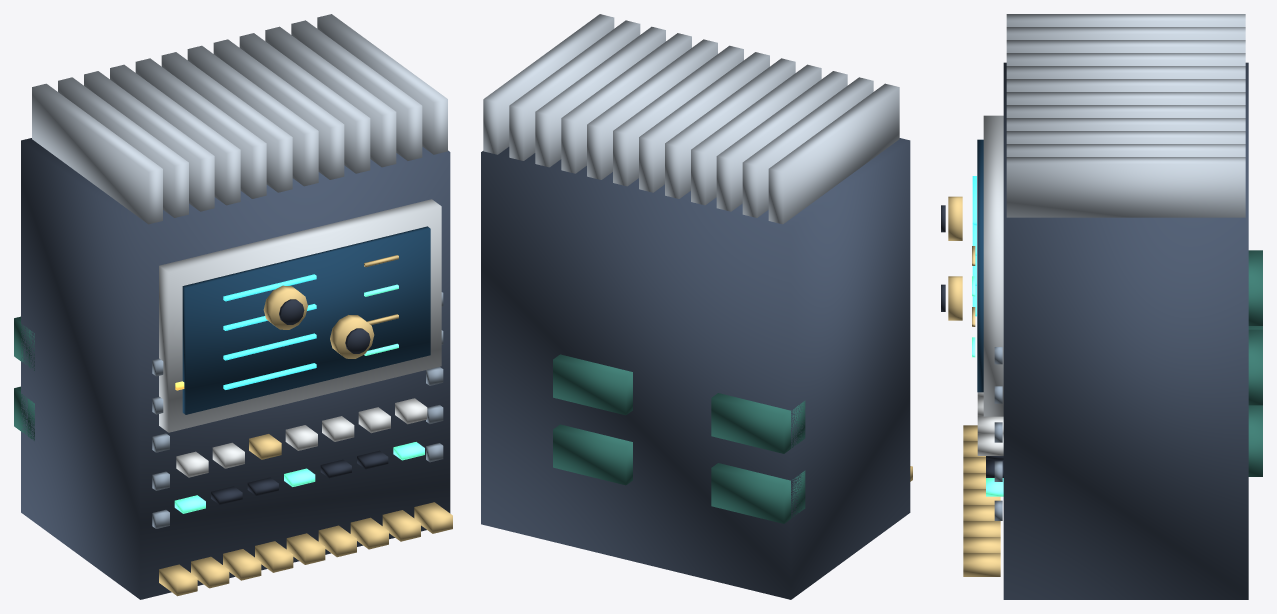
The model's file is 87_L91_ObservatoryThermalRadiator.glb.
3 renders of one model, left to right at view 1: azimuth 30°, elevation 25°; view 2: azimuth 150°, elevation 25°; view 3: azimuth 270°, elevation 25°, orthographic. The views are drawn at different scales.
Visible parts, largest first — view 1: L91_ObservatoryThermalRadiato_Part_0000, L91_ObservatoryThermalRadiato_Part_0011, L91_ObservatoryThermalRadiato_Part_0002, L91_ObservatoryThermalRadiato_Part_0001, L91_ObservatoryThermalRadiato_Part_0004, L91_ObservatoryThermalRadiato_Part_0006, L91_ObservatoryThermalRadiato_Part_0008, L91_ObservatoryThermalRadiato_Part_0003, L91_ObservatoryThermalRadiato_Part_0007, L91_ObservatoryThermalRadiato_Part_0005, L91_ObservatoryThermalRadiato_Part_0009, L91_ObservatoryThermalRadiato_Part_0012 (+1 smaller); view 2: L91_ObservatoryThermalRadiato_Part_0000, L91_ObservatoryThermalRadiato_Part_0011, L91_ObservatoryThermalRadiato_Part_0009; view 3: L91_ObservatoryThermalRadiato_Part_0000, L91_ObservatoryThermalRadiato_Part_0011, L91_ObservatoryThermalRadiato_Part_0001, L91_ObservatoryThermalRadiato_Part_0004, L91_ObservatoryThermalRadiato_Part_0009, L91_ObservatoryThermalRadiato_Part_0002, L91_ObservatoryThermalRadiato_Part_0006, L91_ObservatoryThermalRadiato_Part_0008, L91_ObservatoryThermalRadiato_Part_0012, L91_ObservatoryThermalRadiato_Part_0014, L91_ObservatoryThermalRadiato_Part_0003, L91_ObservatoryThermalRadiato_Part_0005.
Boxes of the visible parts, bbox=[...] form: L91_ObservatoryThermalRadiato_Part_0000: bbox=[21, 138, 450, 599]; L91_ObservatoryThermalRadiato_Part_0011: bbox=[32, 14, 447, 224]; L91_ObservatoryThermalRadiato_Part_0002: bbox=[182, 226, 430, 414]; L91_ObservatoryThermalRadiato_Part_0001: bbox=[159, 199, 441, 432]; L91_ObservatoryThermalRadiato_Part_0004: bbox=[159, 255, 452, 596]; L91_ObservatoryThermalRadiato_Part_0006: bbox=[176, 398, 427, 477]; L91_ObservatoryThermalRadiato_Part_0008: bbox=[152, 292, 443, 528]; L91_ObservatoryThermalRadiato_Part_0003: bbox=[223, 274, 316, 389]; L91_ObservatoryThermalRadiato_Part_0007: bbox=[211, 450, 388, 504]; L91_ObservatoryThermalRadiato_Part_0005: bbox=[174, 284, 424, 513]; L91_ObservatoryThermalRadiato_Part_0009: bbox=[14, 316, 34, 440]; L91_ObservatoryThermalRadiato_Part_0012: bbox=[263, 285, 307, 329]; L91_ObservatoryThermalRadiato_Part_0000: bbox=[481, 138, 910, 599]; L91_ObservatoryThermalRadiato_Part_0011: bbox=[483, 14, 899, 224]; L91_ObservatoryThermalRadiato_Part_0009: bbox=[553, 354, 805, 523]; L91_ObservatoryThermalRadiato_Part_0000: bbox=[1003, 62, 1248, 599]; L91_ObservatoryThermalRadiato_Part_0011: bbox=[1006, 14, 1245, 217]; L91_ObservatoryThermalRadiato_Part_0001: bbox=[983, 115, 1003, 416]; L91_ObservatoryThermalRadiato_Part_0004: bbox=[963, 246, 1000, 576]; L91_ObservatoryThermalRadiato_Part_0009: bbox=[1248, 250, 1262, 476]; L91_ObservatoryThermalRadiato_Part_0002: bbox=[977, 139, 983, 392]; L91_ObservatoryThermalRadiato_Part_0006: bbox=[977, 392, 1003, 455]; L91_ObservatoryThermalRadiato_Part_0008: bbox=[994, 347, 1002, 520]; L91_ObservatoryThermalRadiato_Part_0012: bbox=[948, 196, 962, 240]; L91_ObservatoryThermalRadiato_Part_0014: bbox=[948, 276, 962, 320]; L91_ObservatoryThermalRadiato_Part_0003: bbox=[972, 176, 976, 316]; L91_ObservatoryThermalRadiato_Part_0005: bbox=[972, 276, 1003, 496].
Size of the model in its own units: 1.08 by 1.41 by 0.9429.
